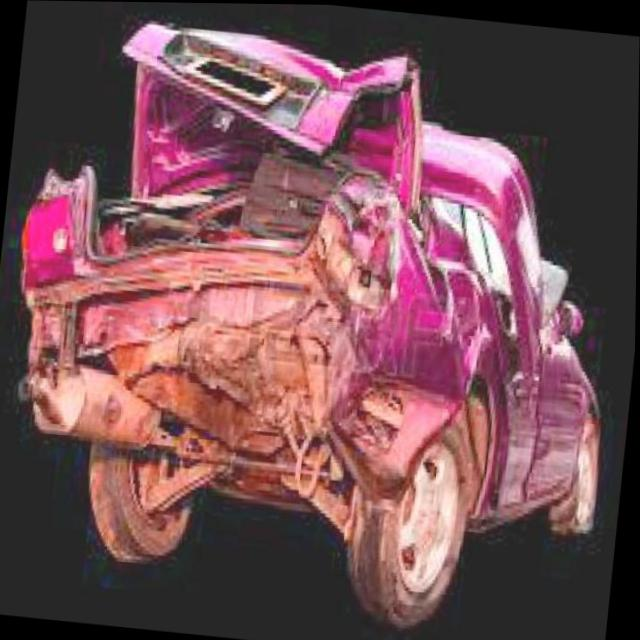Car-Damage: (4, 7, 640, 536)
